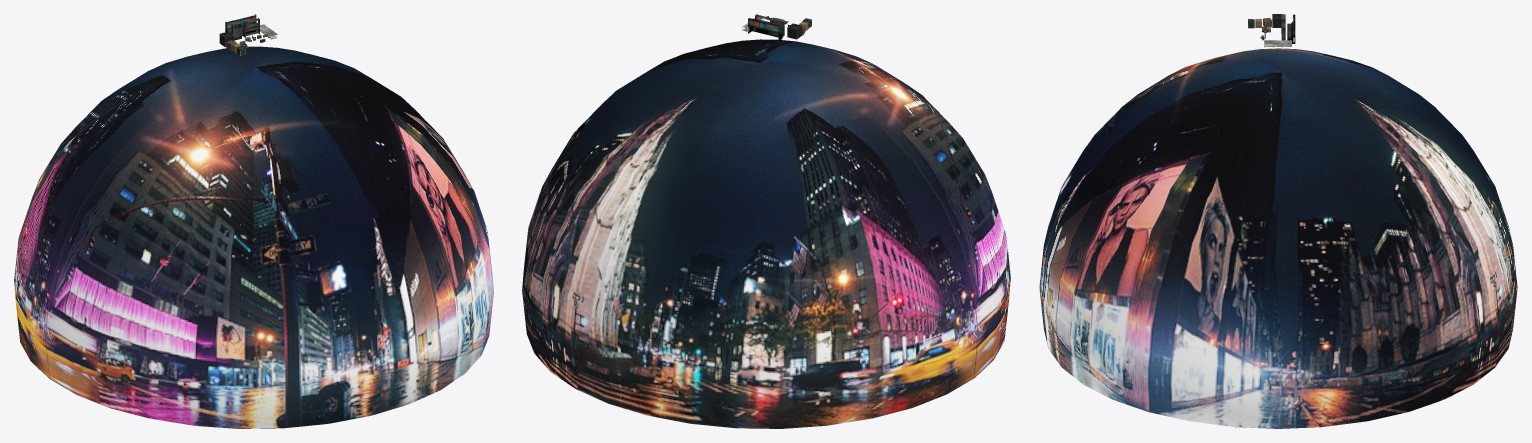
The model's file is warehouse_free_low-poly_for_games.glb.
The picture shows the model from 3 angles, left to right: view 1: azimuth 30°, elevation 25°; view 2: azimuth 150°, elevation 25°; view 3: azimuth 270°, elevation 25°; orthographic projection. The views are drawn at different scales.
Visible parts, largest first — view 1: Sphere; view 2: Sphere; view 3: Sphere.
Boxes of the visible parts, x1,y1,x2,y2 form: Sphere: [14, 46, 493, 428]; Sphere: [522, 39, 1010, 428]; Sphere: [1039, 48, 1517, 428].
Bounding box in the file's own units: 56.25 × 41.29 × 56.25.
38 materials, 35 textured.
